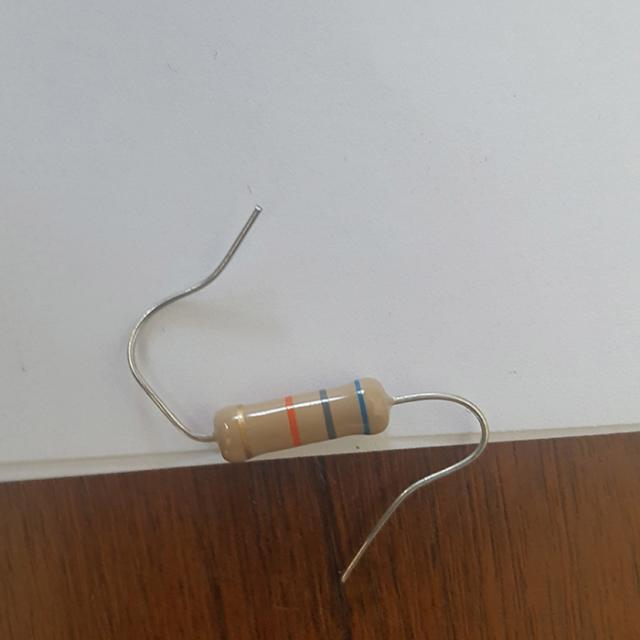blue: (357, 382, 367, 428)
gold: (239, 408, 249, 455)
grey: (322, 394, 332, 435)
orange: (288, 399, 298, 441)
resistor: (194, 361, 411, 479)
